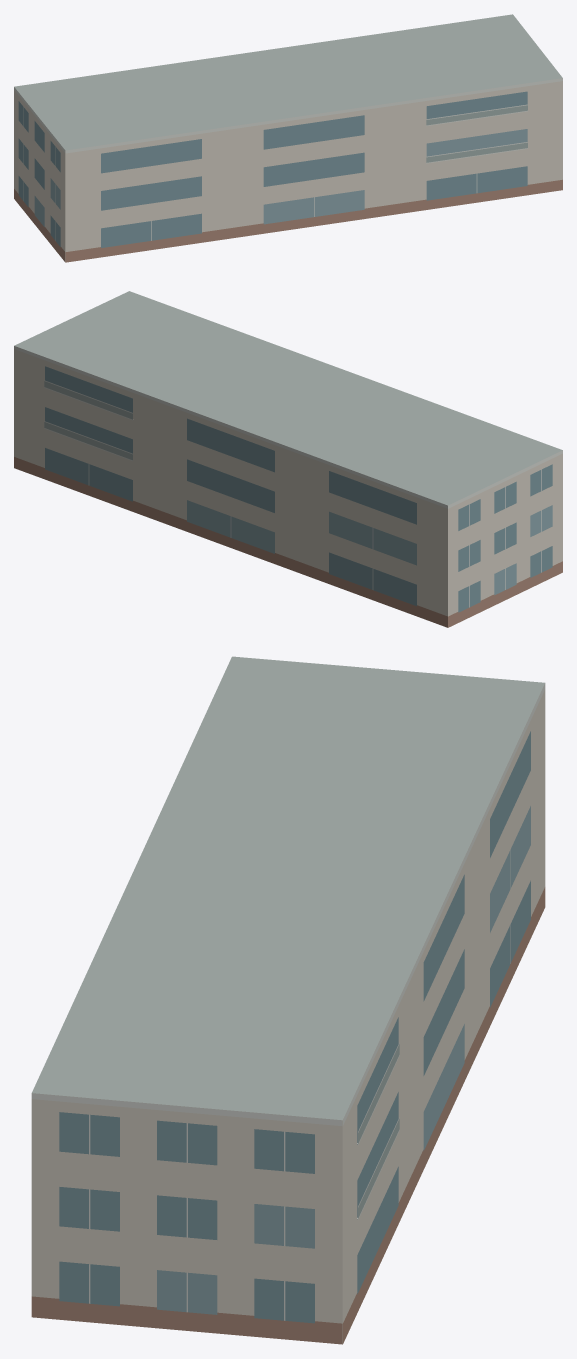
The model's file is survey-upis-32707021.glb.
3 views of the same model, one above another, from view 1: azimuth 30°, elevation 25°; view 2: azimuth 150°, elevation 25°; view 3: azimuth 270°, elevation 25° (orthographic). The views are drawn at different scales.
Parts seen in each view (by area): view 1: survey-upis-32707021.tmp; view 2: survey-upis-32707021.tmp; view 3: survey-upis-32707021.tmp.
Part boxes in pixels (x1,y1,x2,y2): survey-upis-32707021.tmp: [14, 14, 562, 262]; survey-upis-32707021.tmp: [14, 291, 562, 627]; survey-upis-32707021.tmp: [31, 656, 545, 1344].
Bounding box in the file's own units: 40.6 × 9.15 × 19.01.
